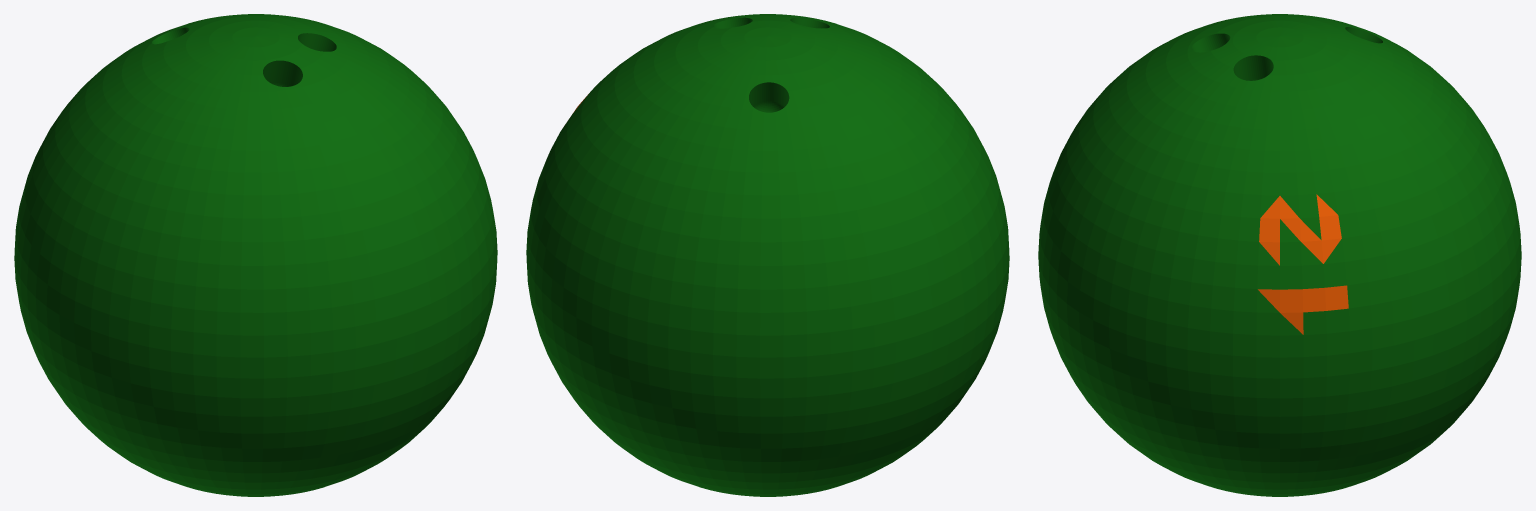
File: BowlingBall.fbx
3 views of the same model, side by side, from view 1: azimuth 30°, elevation 25°; view 2: azimuth 150°, elevation 25°; view 3: azimuth 270°, elevation 25° (orthographic).
Parts seen in each view (by area): view 1: Sphere; view 2: Sphere; view 3: Sphere.
Boxes of the visible parts, <box> form: Sphere: <box>14,14,497,496</box>; Sphere: <box>526,14,1009,496</box>; Sphere: <box>1038,14,1521,496</box>.
Size of the model in its own units: 200 by 200 by 200.
